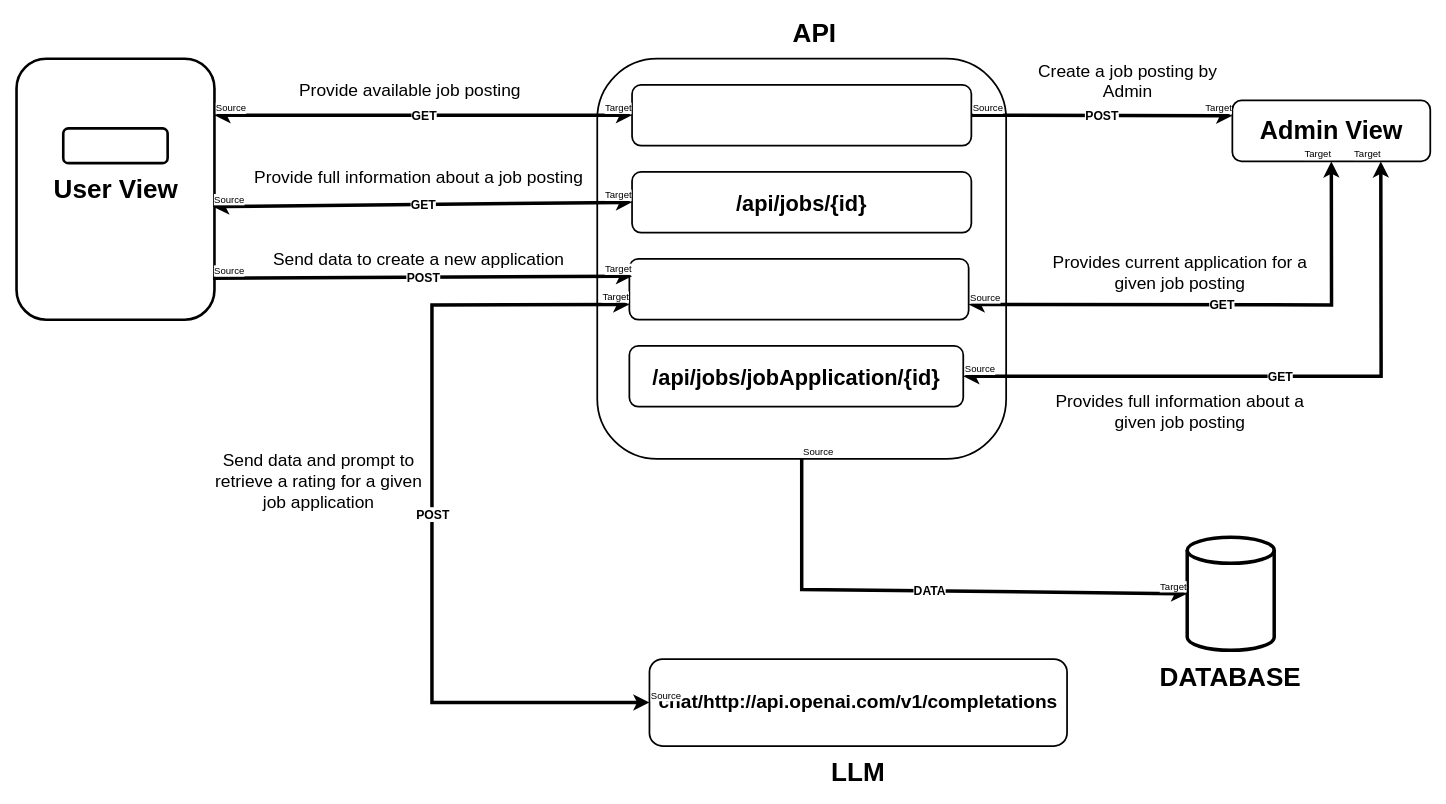
This 1446x804 diagram has some shape labels left out. The box of each missing label's shape, as (x1, y1, x2, y2) in pixels:
/api/jobs: (631, 84, 972, 146)
/api/jobs/jobApplication: (628, 258, 969, 320)
